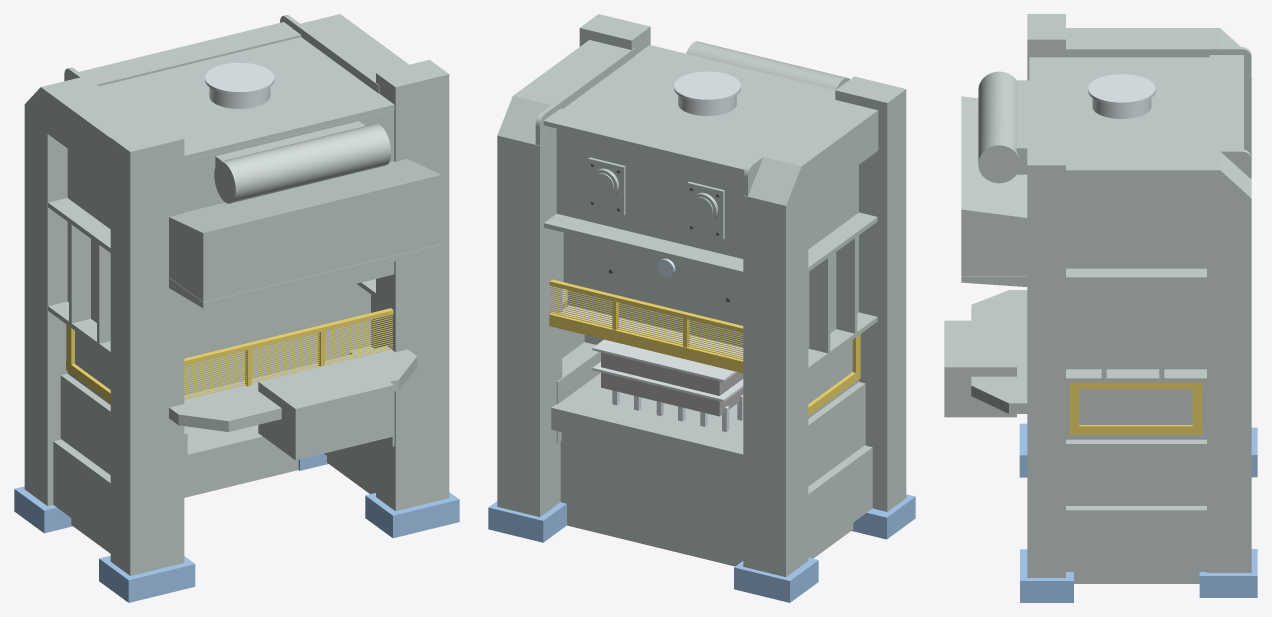
File: pressTwo.glb
The picture shows the model from 3 angles, left to right: view 1: azimuth 30°, elevation 25°; view 2: azimuth 150°, elevation 25°; view 3: azimuth 270°, elevation 25°; orthographic projection. The views are drawn at different scales.
Visible parts, largest first — view 1: 立方体_15, 立方体_48, 立方体_6, 立方体_16, 立方体_17, 立方体_26, 立方体_52, 圆柱_6, 立方体_47, 立方体_51, 立方体_12, 立方体_41 (+18 smaller); view 2: 立方体_16, 立方体_5, 立方体_15, 立方体_28, 立方体_17, 立方体_2_2, 立方体_18, 立方体_27, 立方体_12, 立方体_41, 立方体_3_2, 立方体_40 (+22 smaller); view 3: 立方体_5, 立方体_4, 立方体_6, 立方体_17, 立方体_35, 立方体_34, 立方体_48, 立方体_52, 立方体_16, 圆柱_6, 立方体_51, 立方体_3_2 (+17 smaller).
Boxes of the visible parts, x1,y1,x2,y2 form: 立方体_15: [110, 124, 184, 575]; 立方体_48: [169, 159, 441, 302]; 立方体_6: [376, 60, 449, 511]; 立方体_16: [24, 76, 153, 505]; 立方体_17: [99, 37, 394, 160]; 立方体_26: [184, 283, 370, 394]; 立方体_52: [258, 357, 393, 460]; 圆柱_6: [214, 123, 391, 203]; 立方体_47: [184, 109, 394, 325]; 立方体_51: [169, 346, 417, 431]; 立方体_12: [67, 149, 110, 553]; 立方体_41: [53, 439, 110, 546]; 立方体_16: [743, 100, 878, 576]; 立方体_5: [497, 40, 635, 516]; 立方体_15: [835, 76, 906, 511]; 立方体_28: [560, 432, 743, 566]; 立方体_17: [563, 45, 835, 156]; 立方体_2_2: [556, 108, 757, 258]; 立方体_18: [567, 233, 743, 346]; 立方体_27: [551, 373, 743, 476]; 立方体_12: [808, 165, 858, 558]; 立方体_41: [808, 445, 872, 555]; 立方体_3_2: [543, 109, 757, 173]; 立方体_40: [808, 382, 865, 486]; 立方体_5: [1066, 149, 1251, 572]; 立方体_4: [1066, 211, 1206, 583]; 立方体_6: [1027, 140, 1065, 577]; 立方体_17: [1029, 57, 1209, 149]; 立方体_35: [1066, 439, 1206, 505]; 立方体_34: [1066, 506, 1206, 571]; 立方体_48: [961, 96, 1027, 276]; 立方体_52: [944, 320, 1016, 417]; 立方体_16: [1059, 28, 1251, 176]; 圆柱_6: [978, 71, 1019, 183]; 立方体_51: [971, 290, 1027, 413]; 立方体_3_2: [1211, 55, 1243, 149].
Bounding box in the file's own units: 0.9395 × 1.21 × 0.7923.
